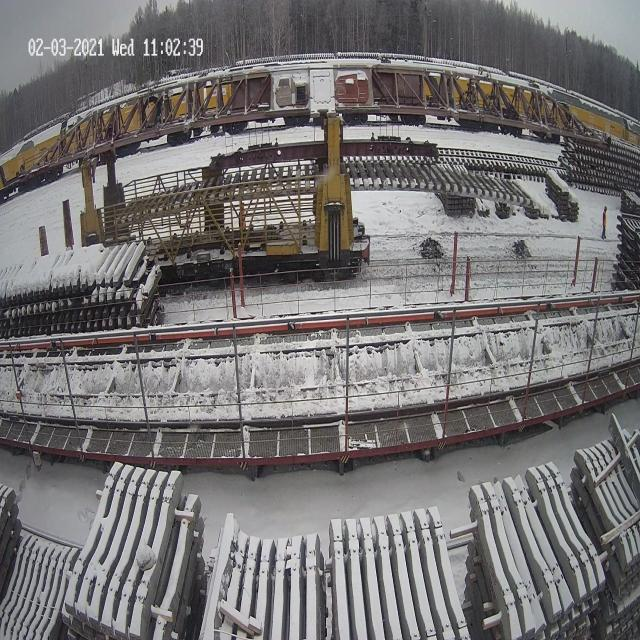Person: (601, 206, 607, 240)
